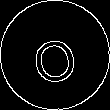O_N: (29, 26, 81, 84)
